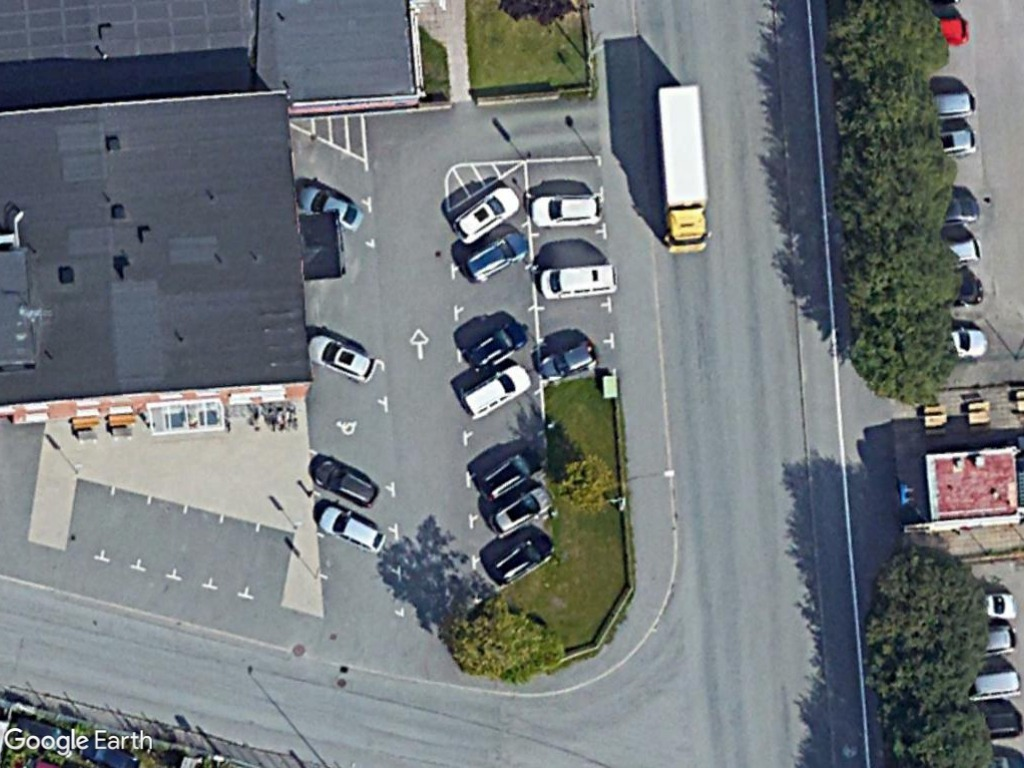car: (472, 441, 550, 506), (450, 180, 522, 245), (309, 454, 385, 511), (460, 223, 532, 283), (483, 529, 557, 587), (303, 333, 383, 386), (459, 363, 532, 420), (315, 498, 388, 555), (463, 318, 530, 375), (296, 181, 367, 232), (488, 482, 556, 535), (535, 334, 603, 386), (526, 190, 609, 232)
truck: (654, 81, 715, 254)
van: (536, 261, 620, 302)
